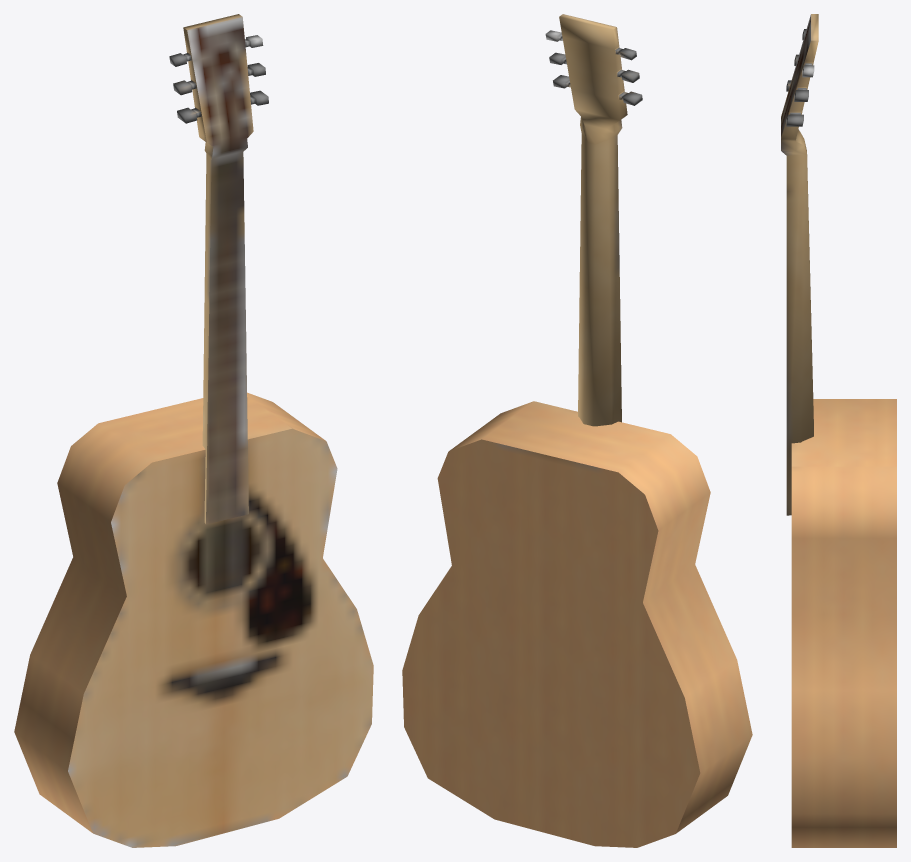
The model's file is int_guitar_acoustic1.fbx.
3 views of the same model, side by side, from view 1: azimuth 30°, elevation 25°; view 2: azimuth 150°, elevation 25°; view 3: azimuth 270°, elevation 25° (orthographic). The views are drawn at different scales.
Visible parts, largest first — view 1: acoustic_guitar.004; view 2: acoustic_guitar.004; view 3: acoustic_guitar.004.
Boxes of the visible parts, <box> form: acoustic_guitar.004: <box>14,14,373,847</box>; acoustic_guitar.004: <box>402,14,752,847</box>; acoustic_guitar.004: <box>781,14,896,847</box>.
Size of the model in its own units: 73.55 by 185 by 24.57.
